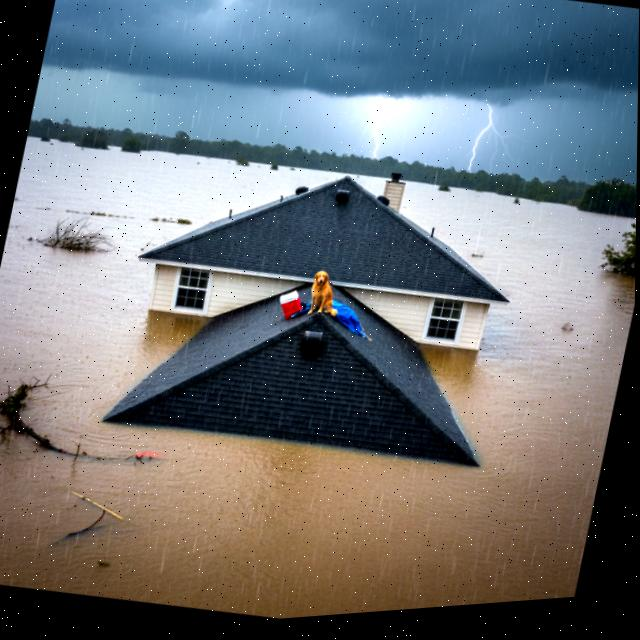dog: (296, 263, 347, 326)
